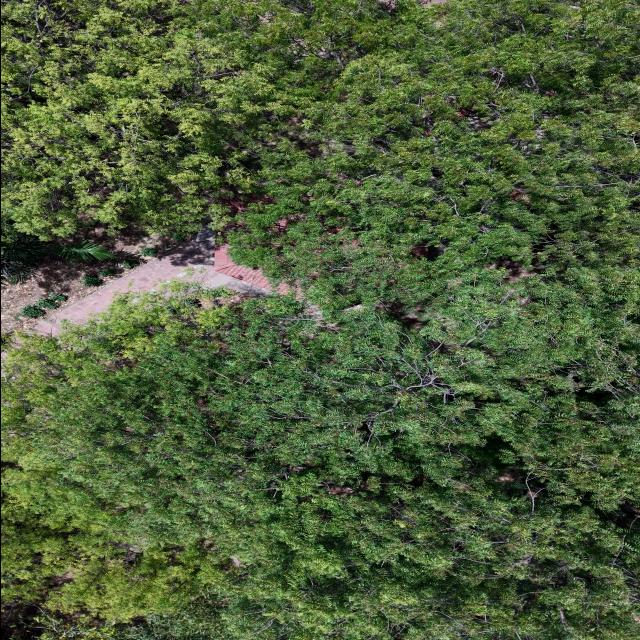DRY_AREA: (31, 228, 270, 334)
VEGETATION_TREE: (1, 0, 639, 639), (4, 284, 638, 639), (3, 0, 638, 271), (1, 227, 120, 283), (1, 233, 56, 283), (58, 240, 120, 261), (19, 293, 67, 317), (181, 298, 225, 310), (19, 304, 46, 317), (81, 273, 103, 285), (37, 297, 59, 308), (47, 293, 67, 303), (119, 257, 139, 267), (139, 248, 157, 258), (98, 267, 117, 276), (171, 232, 185, 241)
